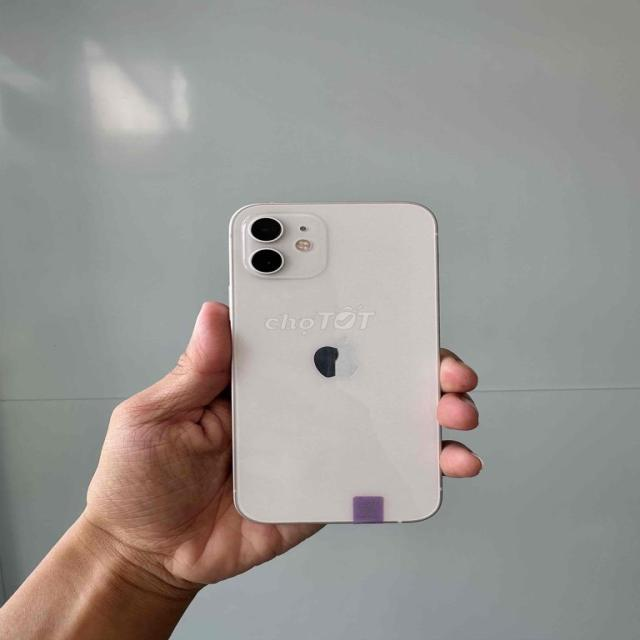gen_12_13: (222, 199, 454, 528)
